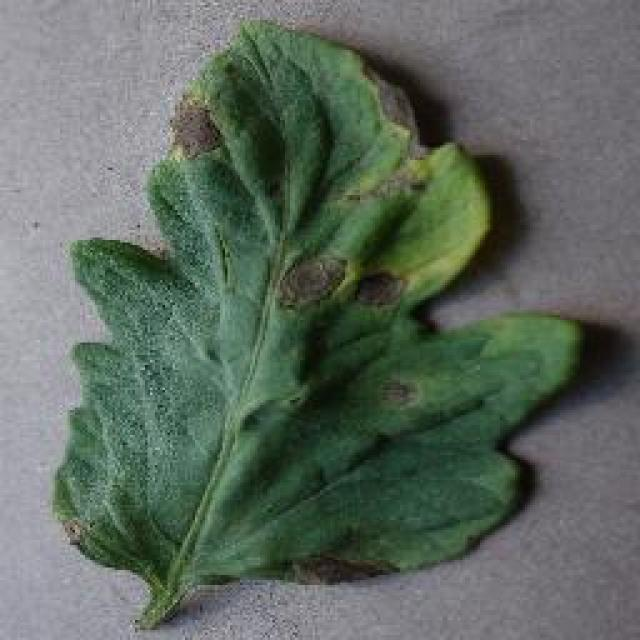Tomato___Early_blight: (51, 23, 583, 634)
